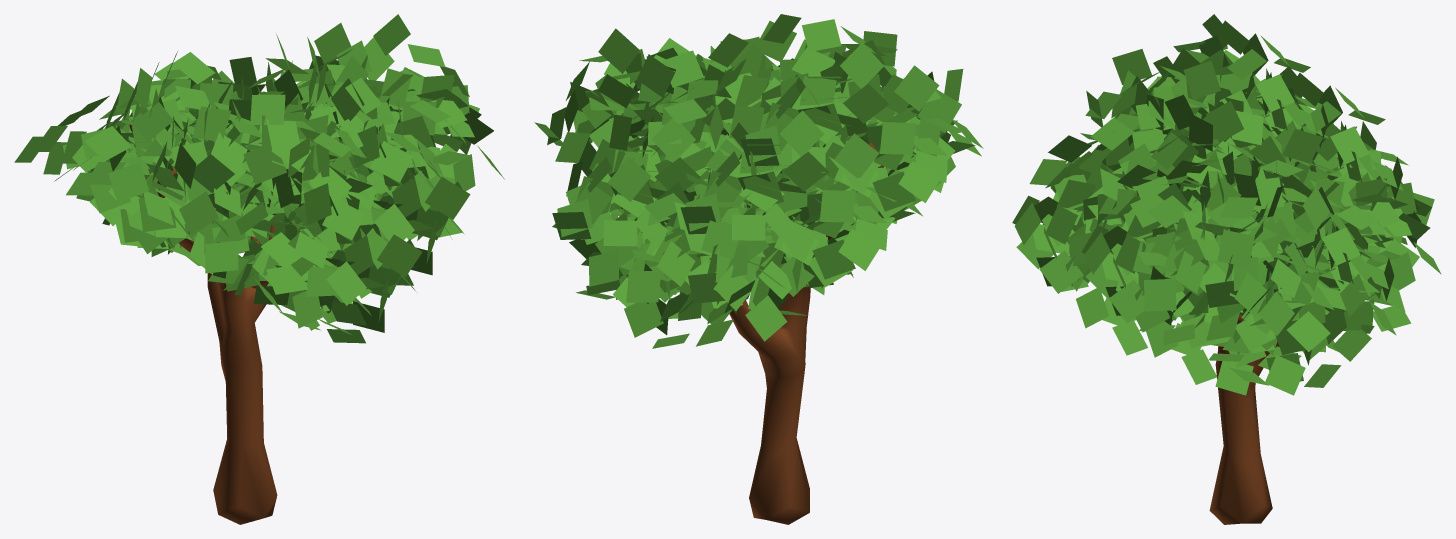
Rendered from Tree.fbx.
3 views of the same model, side by side, from view 1: azimuth 30°, elevation 25°; view 2: azimuth 150°, elevation 25°; view 3: azimuth 270°, elevation 25° (orthographic). The views are drawn at different scales.
Parts seen in each view (by area): view 1: Plane.003, Plane, Plane.007, Plane.004, HSS_Object, Plane.002, Plane.005, Plane.001; view 2: Plane.005, Plane, Plane.007, Plane.001, Plane.004, Plane.006, HSS_Object, Plane.002, Plane.003; view 3: Plane.007, Plane.006, Plane.004, Plane.003, Plane.002, Plane.001, Plane, HSS_Object, Plane.005.
Part boxes in pixels (left/top/right/bottom): Plane.003: left=188, top=143, right=422, bottom=343; Plane: left=32, top=51, right=265, bottom=257; Plane.007: left=280, top=14, right=504, bottom=240; Plane.004: left=185, top=34, right=405, bottom=254; HSS_Object: left=129, top=124, right=277, bottom=524; Plane.002: left=253, top=85, right=470, bottom=285; Plane.005: left=14, top=62, right=244, bottom=265; Plane.001: left=102, top=112, right=249, bottom=256; Plane.005: left=680, top=110, right=922, bottom=297; Plane: left=740, top=42, right=983, bottom=225; Plane.007: left=534, top=28, right=759, bottom=205; Plane.001: left=613, top=129, right=824, bottom=348; Plane.004: left=686, top=14, right=919, bottom=241; Plane.006: left=552, top=118, right=742, bottom=302; HSS_Object: left=729, top=142, right=886, bottom=524; Plane.002: left=609, top=46, right=776, bottom=211; Plane.003: left=785, top=65, right=981, bottom=262; Plane.007: left=1115, top=113, right=1354, bottom=345; Plane.006: left=1212, top=172, right=1405, bottom=395; Plane.004: left=1078, top=60, right=1323, bottom=214; Plane.003: left=1012, top=131, right=1183, bottom=355; Plane.002: left=1081, top=160, right=1305, bottom=384; Plane.001: left=1274, top=123, right=1441, bottom=351; Plane: left=1112, top=14, right=1338, bottom=160; HSS_Object: left=1209, top=298, right=1282, bottom=524; Plane.005: left=1255, top=66, right=1408, bottom=243.
Size of the model in its own units: 9.5 by 10.71 by 8.88.
